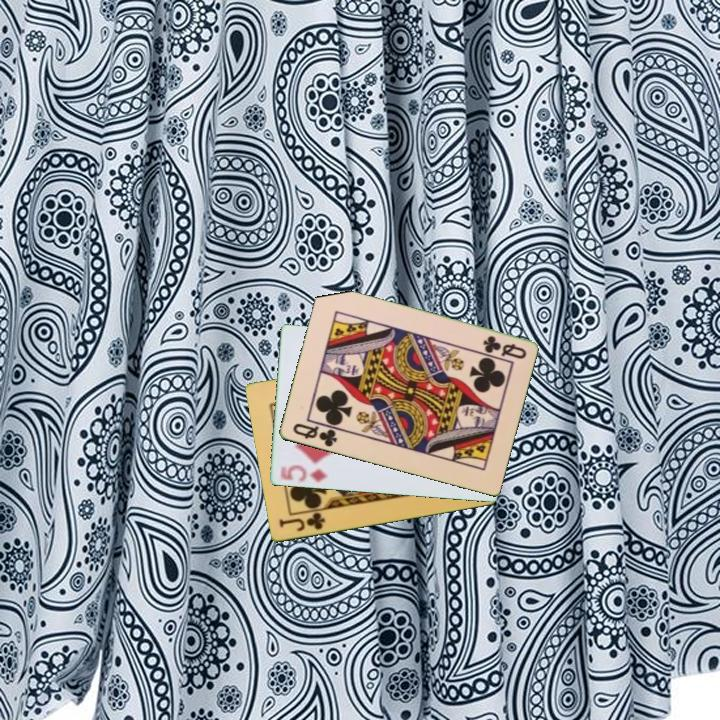5d: (276, 462, 330, 485)
Jc: (275, 509, 328, 535)
Qc: (289, 420, 340, 450), (479, 332, 529, 362)
